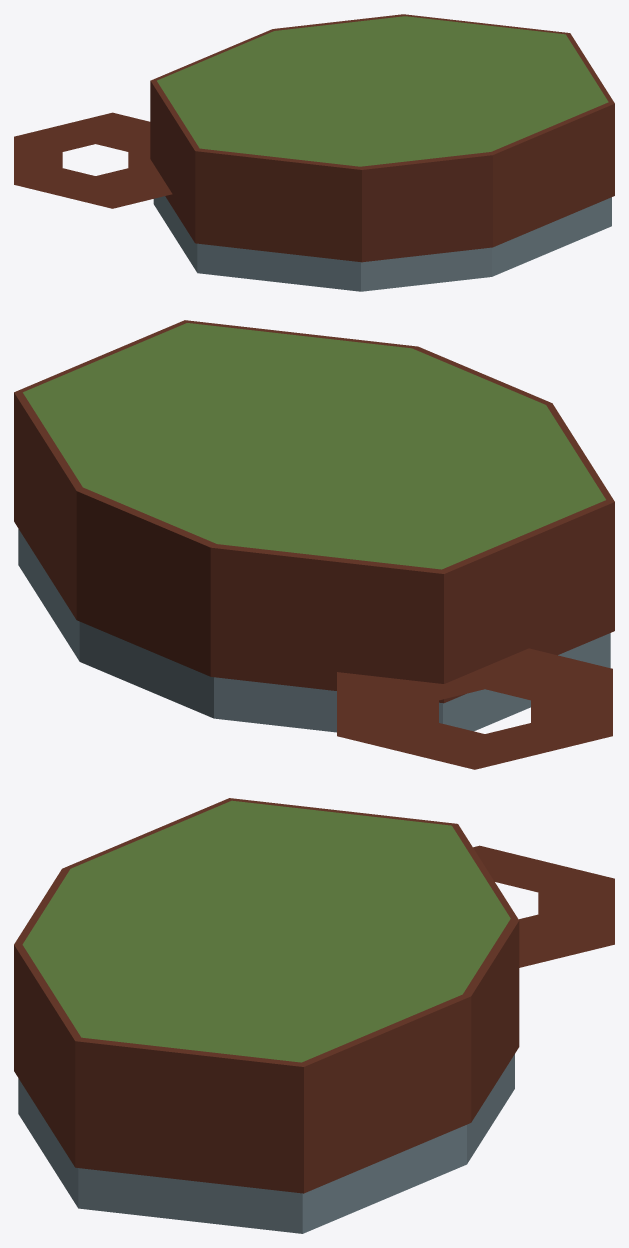
The picture shows the model from 3 angles, top to bottom: view 1: azimuth 30°, elevation 25°; view 2: azimuth 150°, elevation 25°; view 3: azimuth 270°, elevation 25°; orthographic projection. The views are drawn at different scales.
Parts seen in each view (by area): view 1: brooklyn-arena-lod3; view 2: brooklyn-arena-lod3; view 3: brooklyn-arena-lod3.
Part boxes in pixels (bbox=[...]): brooklyn-arena-lod3: bbox=[14, 14, 614, 291]; brooklyn-arena-lod3: bbox=[14, 320, 614, 769]; brooklyn-arena-lod3: bbox=[14, 798, 614, 1233].
Bounding box in the file's own units: 241 × 57.9 × 186.
